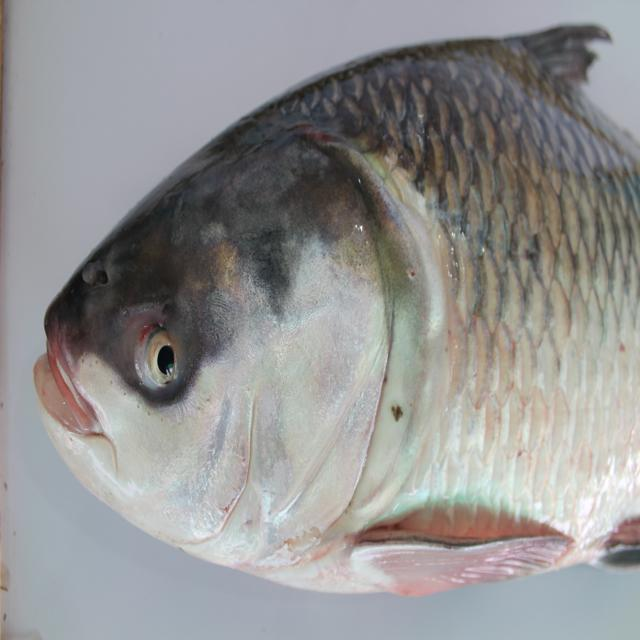Catla: (31, 18, 640, 594)
